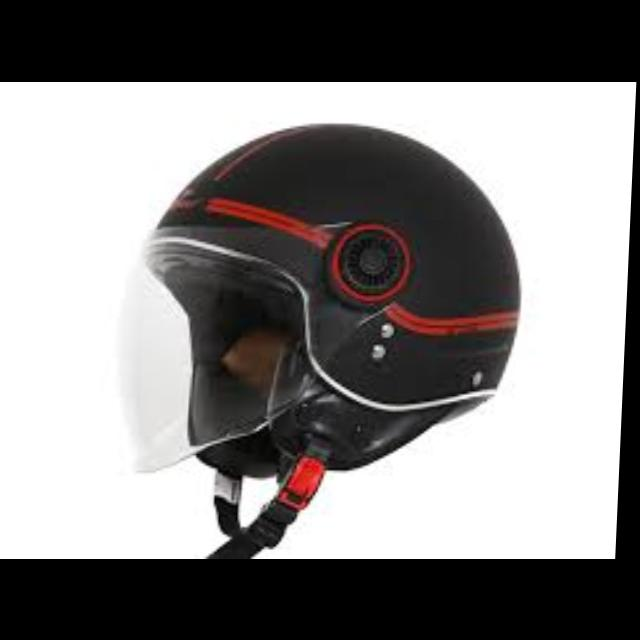motorcycle-helmets: (98, 112, 554, 520)
